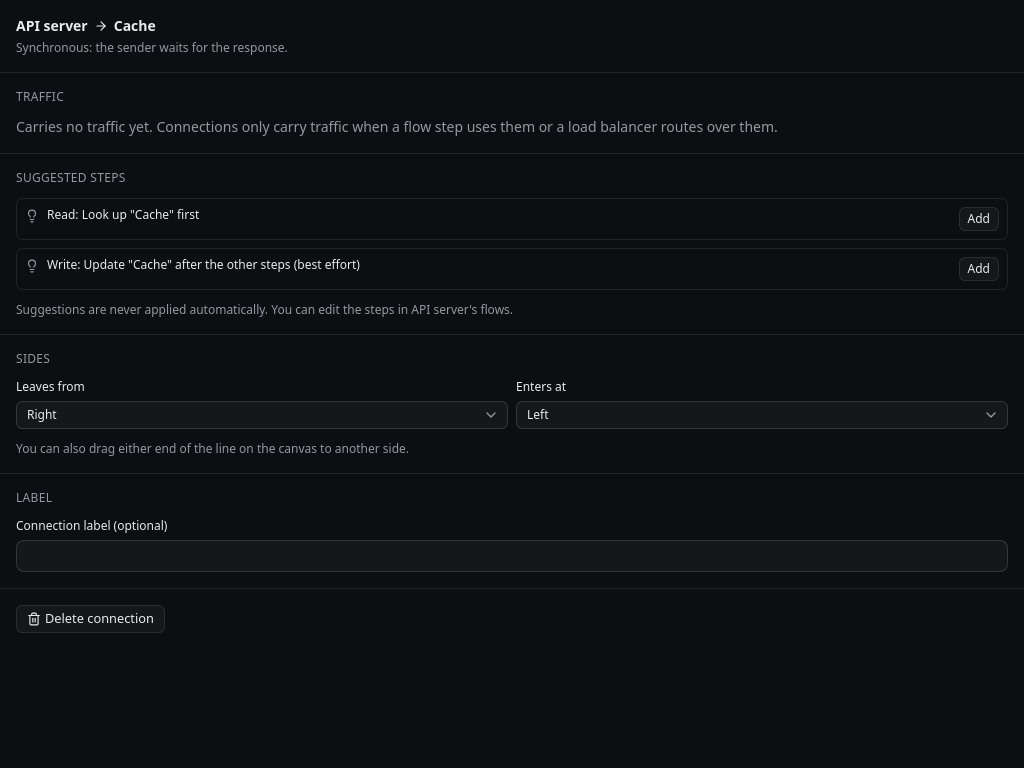
Test case: Inspector › offers suggested steps for a new connection and applies one
Expected: the text "Carries no traffic yet" is shown, [16,117,778,136]
Click the button "Add" in the row of "Read". click: (979, 219)
box: [959,207,999,231]
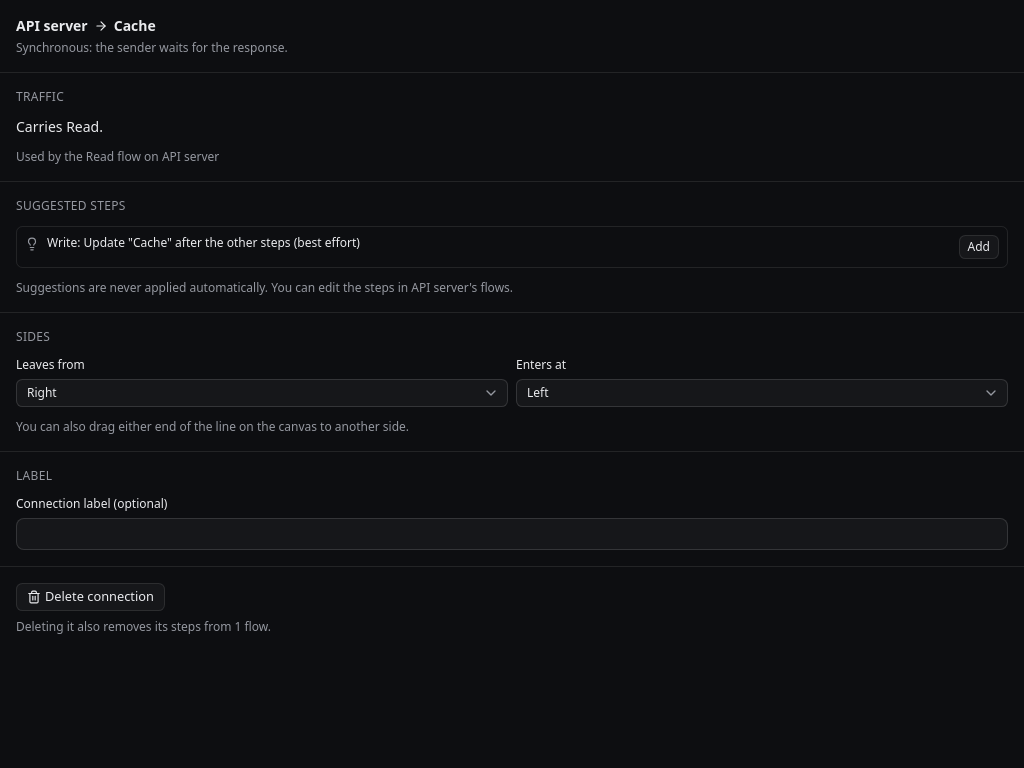
Result: the text "Carries Read." is shown at [16,117,103,136]
